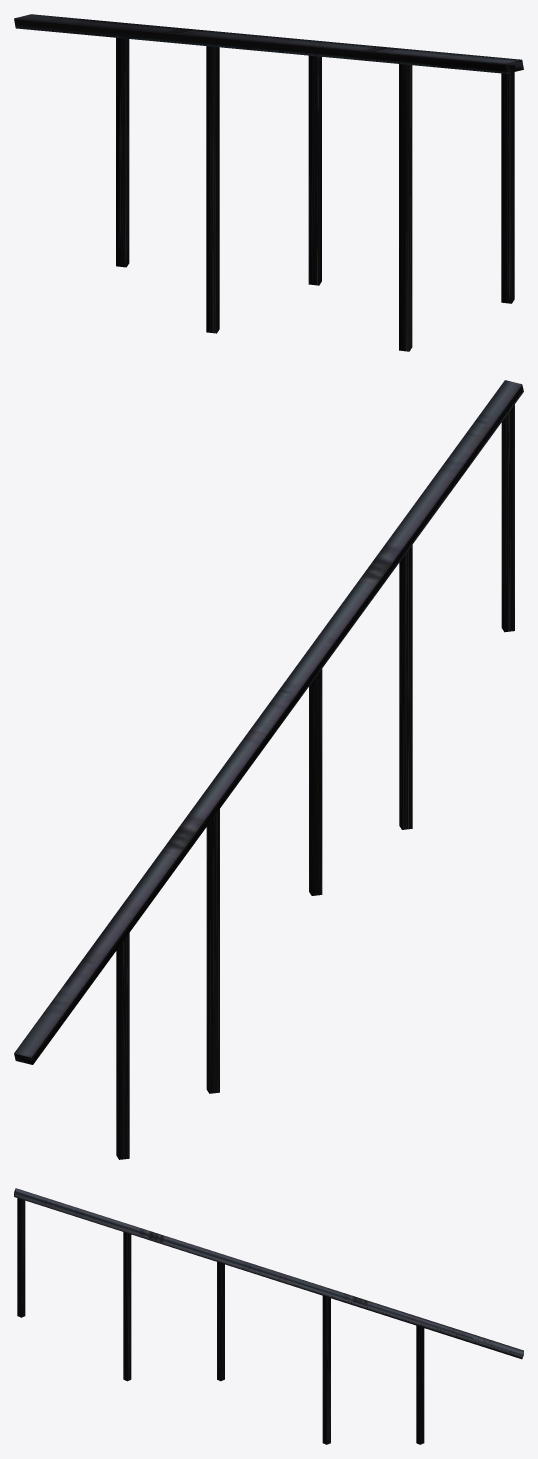
Rendered from ARC0610028.fbx.
The picture shows the model from 3 angles, top to bottom: view 1: azimuth 30°, elevation 25°; view 2: azimuth 150°, elevation 25°; view 3: azimuth 270°, elevation 25°; orthographic projection. The views are drawn at different scales.
Parts seen in each view (by area): view 1: smARC0610028; view 2: smARC0610028; view 3: smARC0610028.
Boxes of the visible parts, <box> form: smARC0610028: <box>14,14,523,351</box>; smARC0610028: <box>14,380,523,1159</box>; smARC0610028: <box>14,1188,523,1444</box>.
Size of the model in its own units: 7.52 by 203 by 372.
Materials: 1 (1 with a texture image).
